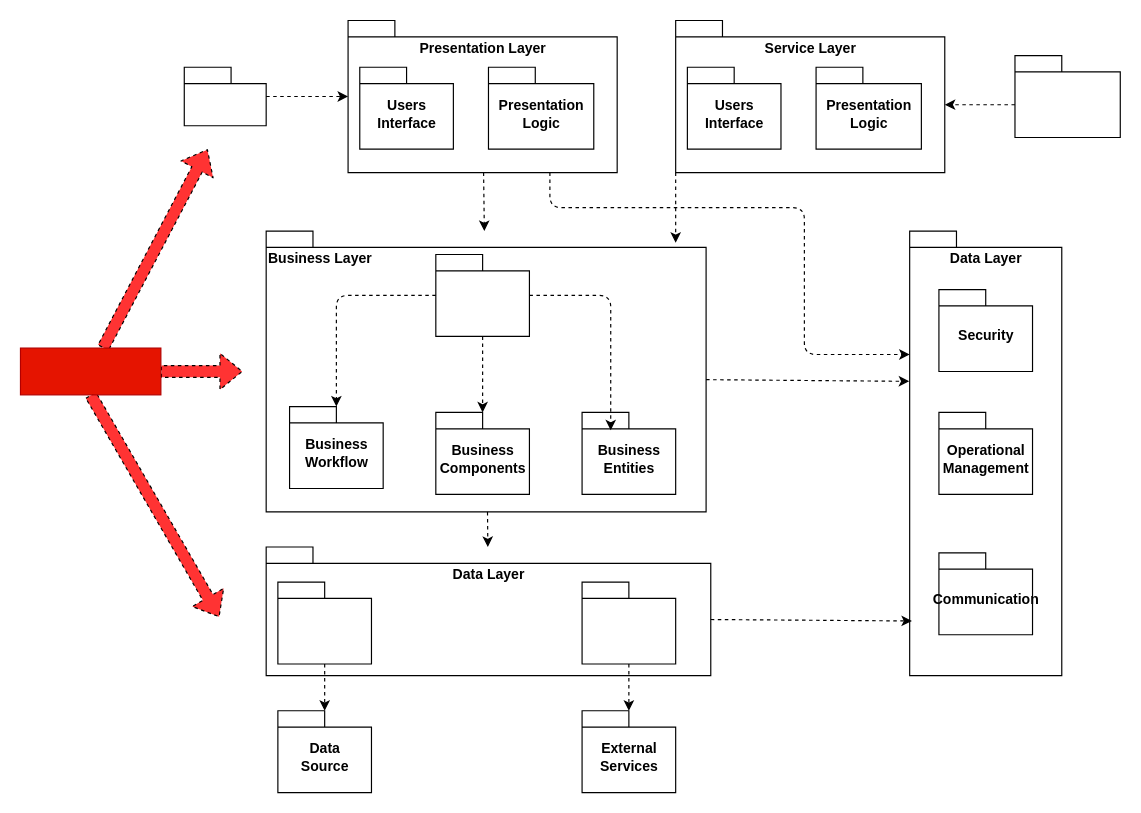
The diagram is 1141 pixels wide and 813 high, and some of its shapes have lost their labels. Here are the shapes that lost their labels. From the top down, the centre of each, then its label:
At (x=224, y=96): "Users".
At (x=1067, y=95): "External System".
At (x=482, y=294): "Application Fecade".
At (x=90, y=371): "Packages".
At (x=324, y=622): "Data Access".
At (x=628, y=622): "Service Agents".
